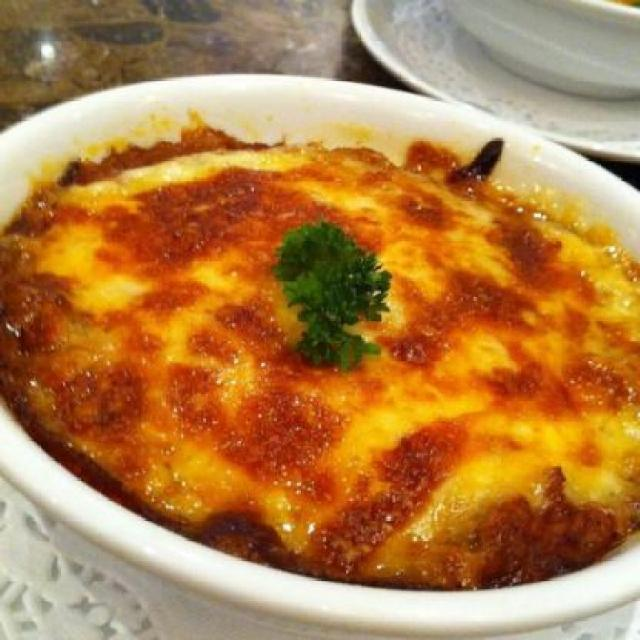Lasagna: (59, 156, 626, 561)
